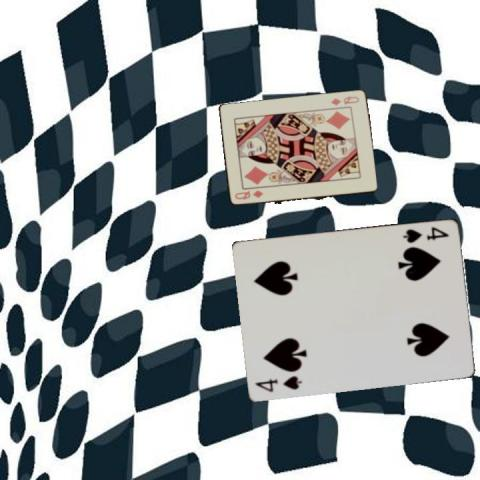4s: (400, 223, 451, 244), (253, 372, 304, 392)
Qd: (327, 93, 360, 107), (231, 188, 264, 201)
